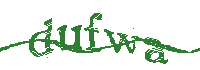a: (143, 38, 169, 65)
d: (29, 18, 54, 57)
f: (84, 12, 101, 53)
u: (58, 24, 81, 53)
w: (104, 28, 138, 55)
